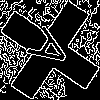A: (25, 25, 82, 79)
